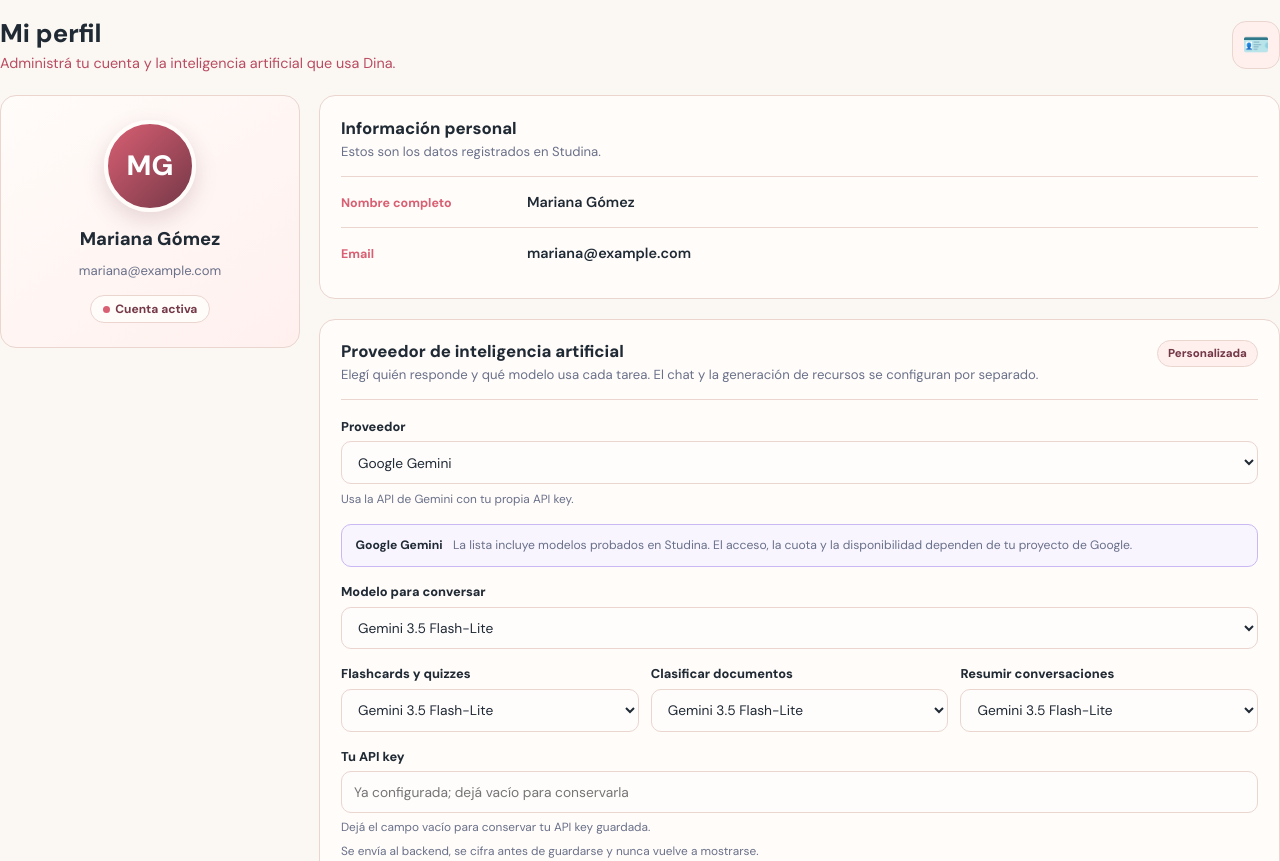
Test: ProfilePage AI settings › conserva la API key guardada de google-genai al actualizar sólo un modelo
Check: the password field labelled "Tu API key" is empty, box [341, 771, 1258, 813]
Step 1. Select "Gemini 3.6 Flash" in the dropdown labelled "Modelo para conversar" → x=800, y=628, box [341, 607, 1258, 650]
(page scrolled)
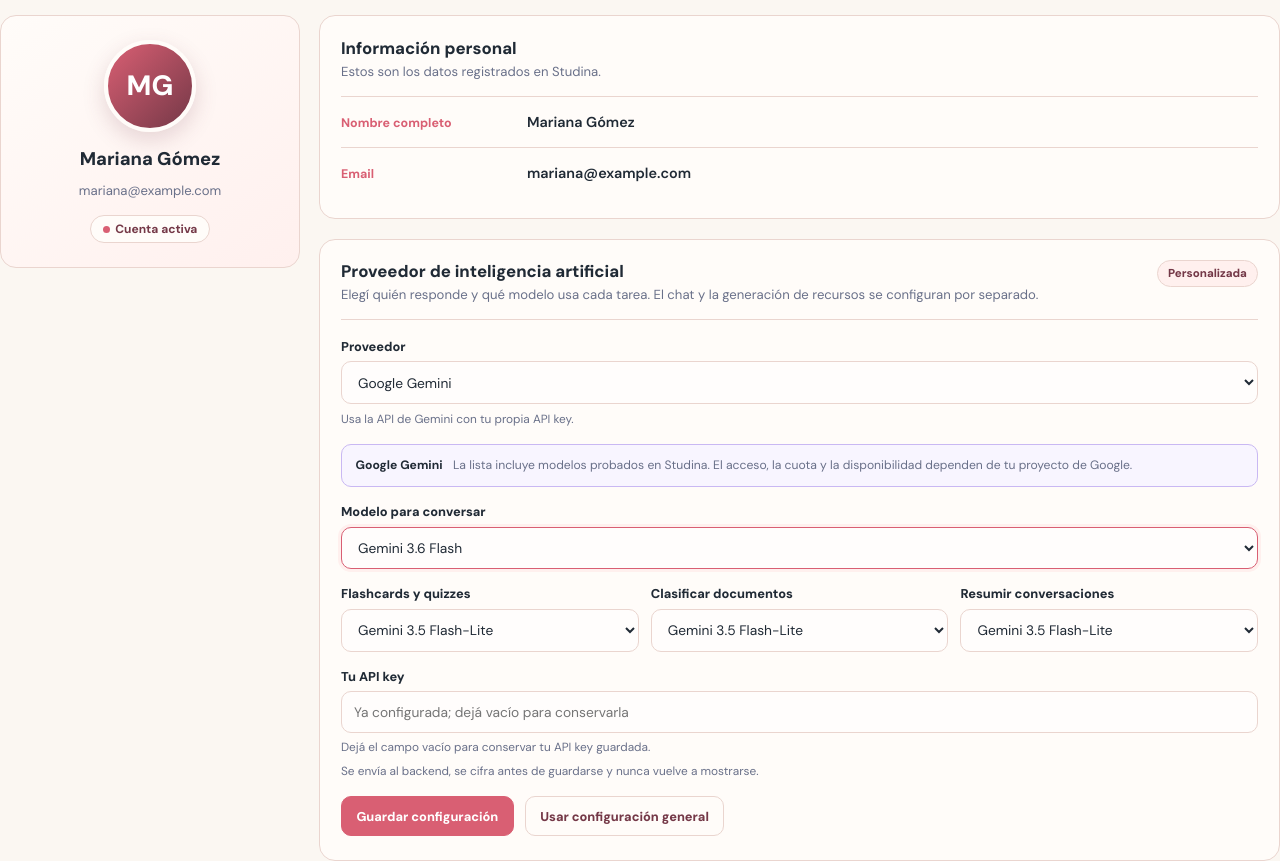
Step 2. Click the button "Guardar configuración" → x=427, y=816, box [341, 796, 514, 836]
(page scrolled)
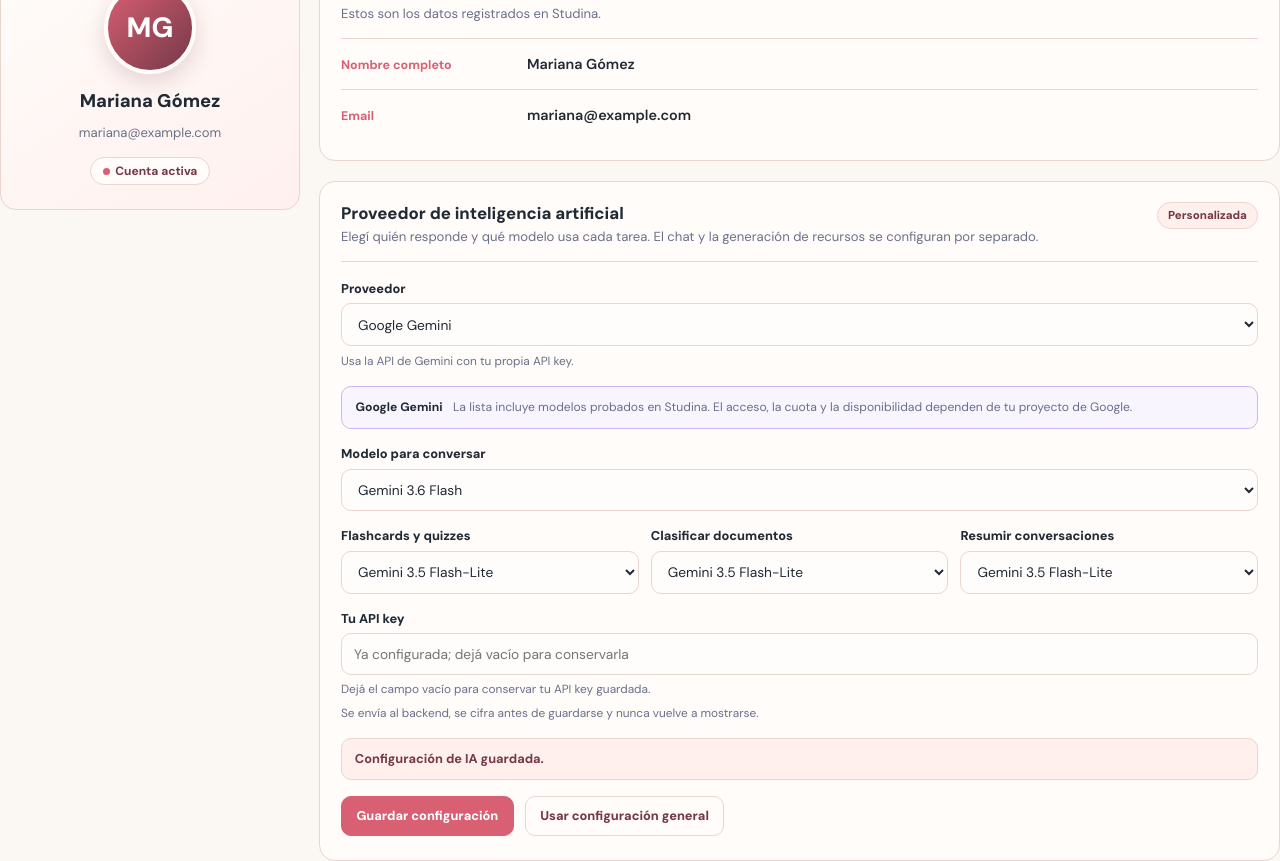
Check: the password field labelled "Tu API key" is empty, box [341, 633, 1258, 675]
Check: the text "Configuración de IA guardada." is shown, box [341, 738, 1258, 780]
